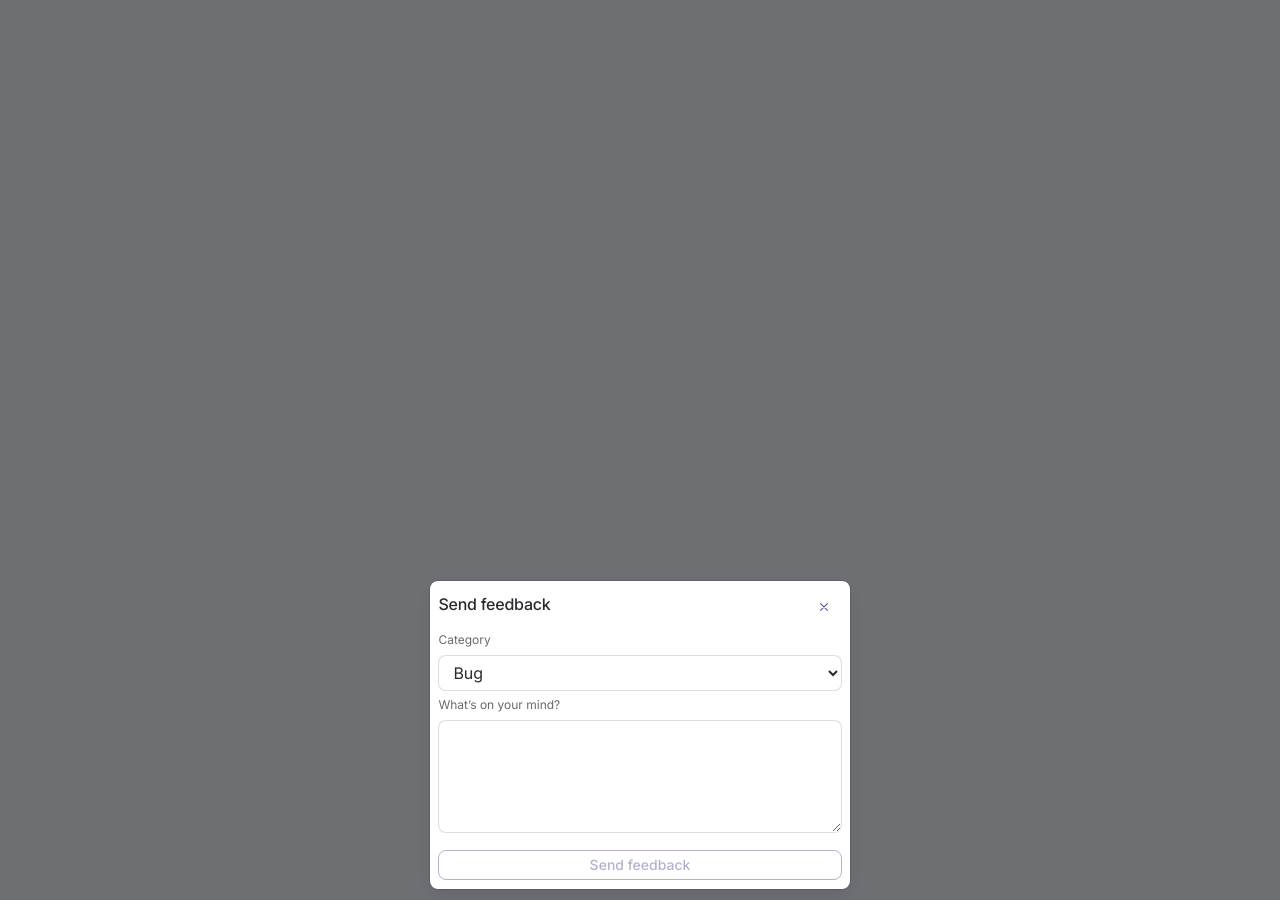
Test case: FeedbackModal › submitting valid input posts to /api/feedback and shows a success confirmation
The width and height of the screenshot is (1280, 900).
Type "it broke" into the text box with test id "feedback-description" at (640, 776), box [438,720,842,833]
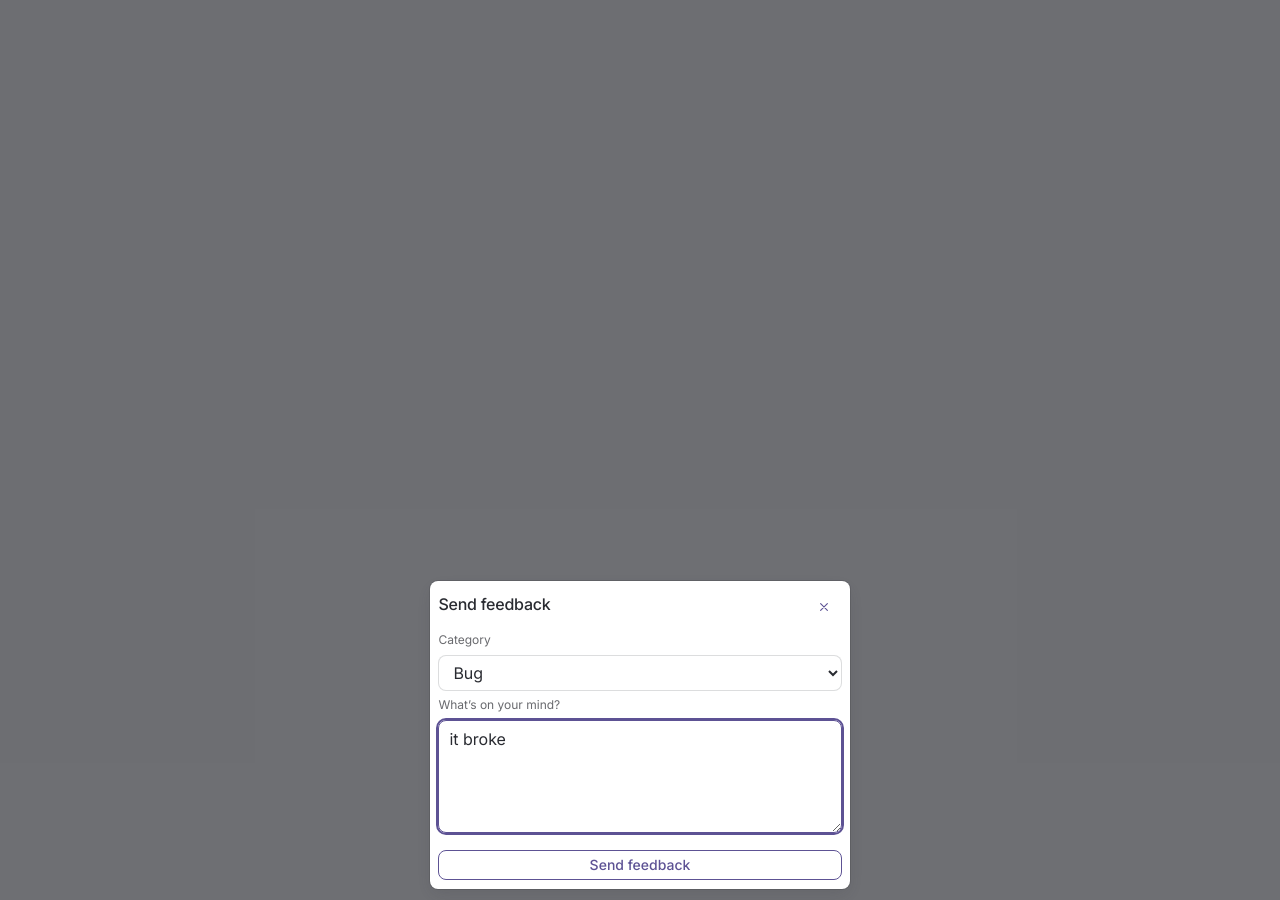
Click the button with test id "feedback-submit" at (640, 865), box [438,850,842,880]
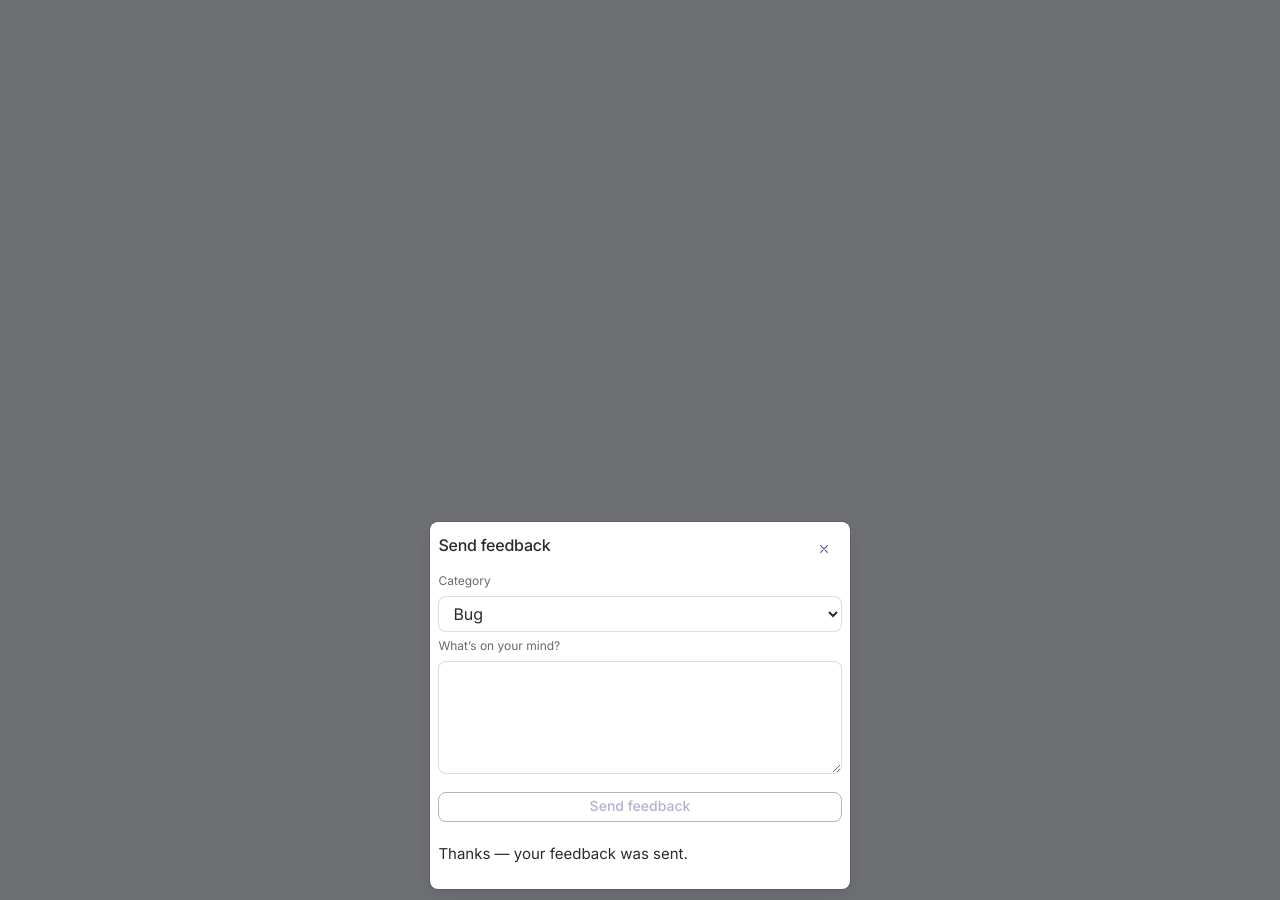
Expected: the message "Thanks — your feedback was sent." is shown, [438,844,688,863]
